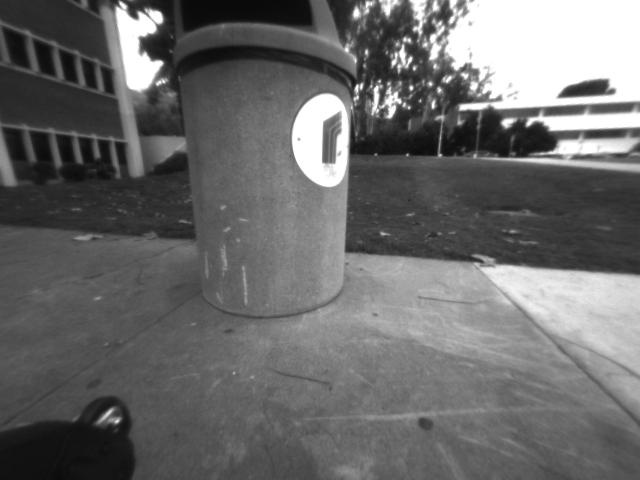trashcan: (157, 1, 368, 322)
